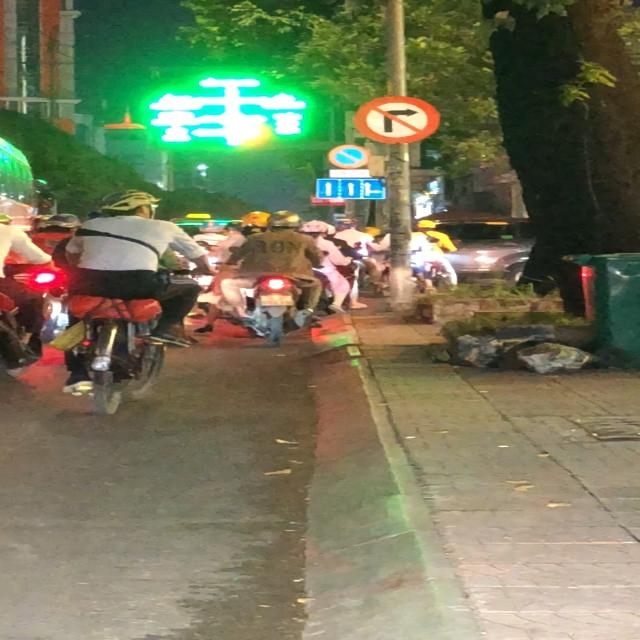Bien bao cam re phai: (348, 93, 444, 146)
